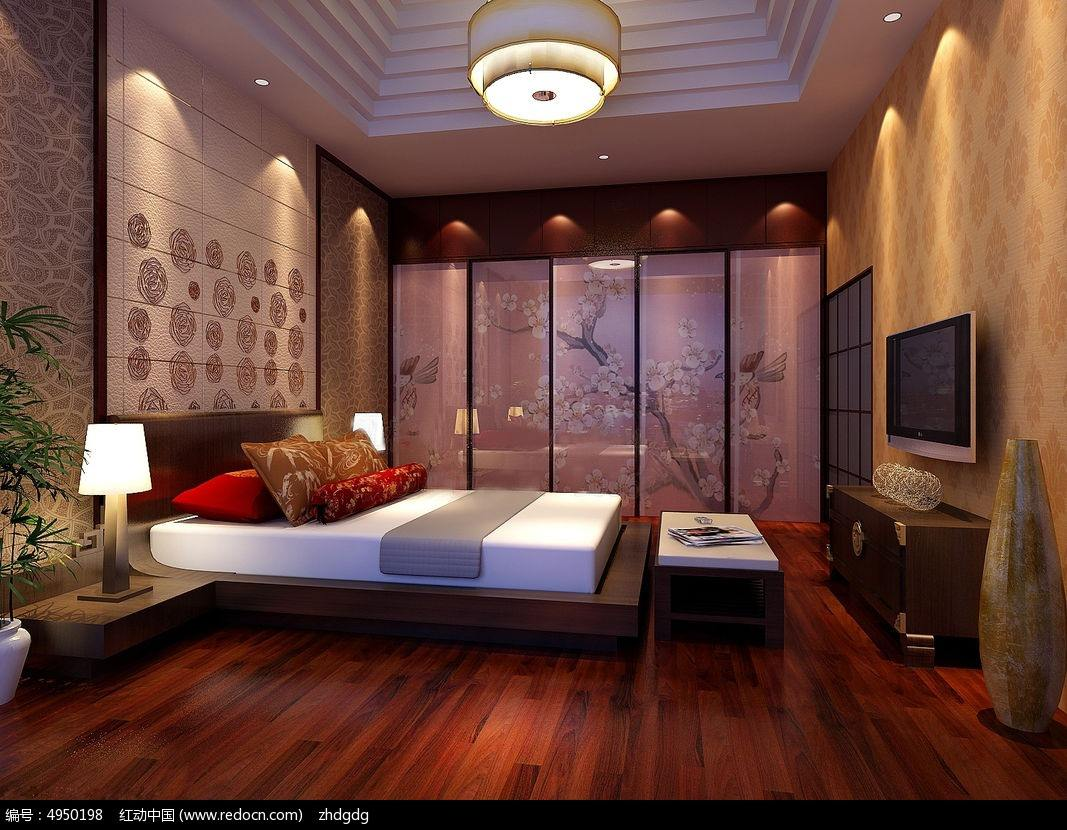床: (163, 475, 631, 643)
枕头: (196, 434, 398, 524)
灯: (458, 6, 621, 130), (69, 418, 150, 604), (865, 10, 901, 29), (242, 75, 270, 93), (584, 152, 608, 169)
